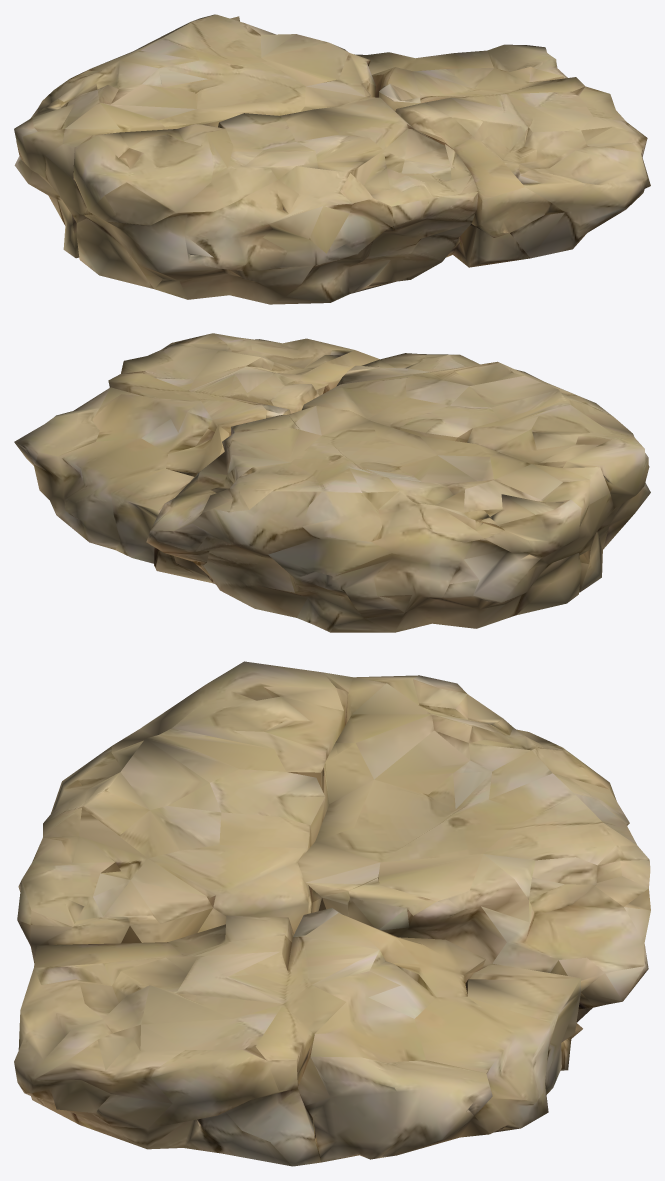
Rendered from rock-arid-outcrop.glb.
The picture shows the model from 3 angles, top to bottom: view 1: azimuth 30°, elevation 25°; view 2: azimuth 150°, elevation 25°; view 3: azimuth 270°, elevation 25°; orthographic projection. The views are drawn at different scales.
Visible parts, largest first — view 1: tripo_node_5b4eab6d-3e0a-4a77-b8ee-e397c72b2b97; view 2: tripo_node_5b4eab6d-3e0a-4a77-b8ee-e397c72b2b97; view 3: tripo_node_5b4eab6d-3e0a-4a77-b8ee-e397c72b2b97.
Boxes of the visible parts, left/top/right/bottom form: tripo_node_5b4eab6d-3e0a-4a77-b8ee-e397c72b2b97: left=14, top=14, right=650, bottom=304; tripo_node_5b4eab6d-3e0a-4a77-b8ee-e397c72b2b97: left=14, top=333, right=650, bottom=632; tripo_node_5b4eab6d-3e0a-4a77-b8ee-e397c72b2b97: left=14, top=661, right=650, bottom=1166.
Size of the model in its own units: 6.32 by 1.4 by 4.7.
1 material, 1 textured.
